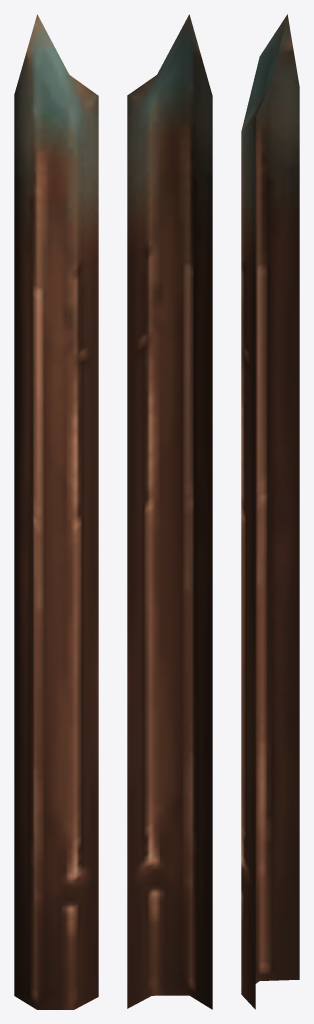
The model's file is sn_jiguan_dici_006.FBX.
3 views of the same model, side by side, from view 1: azimuth 30°, elevation 25°; view 2: azimuth 210°, elevation 25°; view 3: azimuth 270°, elevation 25° (orthographic). The views are drawn at different scales.
Visible parts, largest first — view 1: sn_jiguan_dici_006; view 2: sn_jiguan_dici_006; view 3: sn_jiguan_dici_006.
Boxes of the visible parts, x1,y1,x2,y2 form: sn_jiguan_dici_006: [14, 14, 98, 1009]; sn_jiguan_dici_006: [127, 14, 212, 1009]; sn_jiguan_dici_006: [241, 14, 299, 1009].
Size of the model in its own units: 23.7 by 357 by 19.29.
